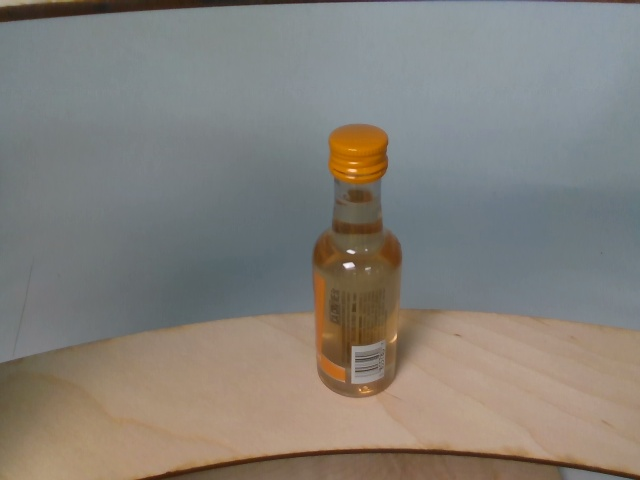ginger_beer: (313, 124, 401, 397)
